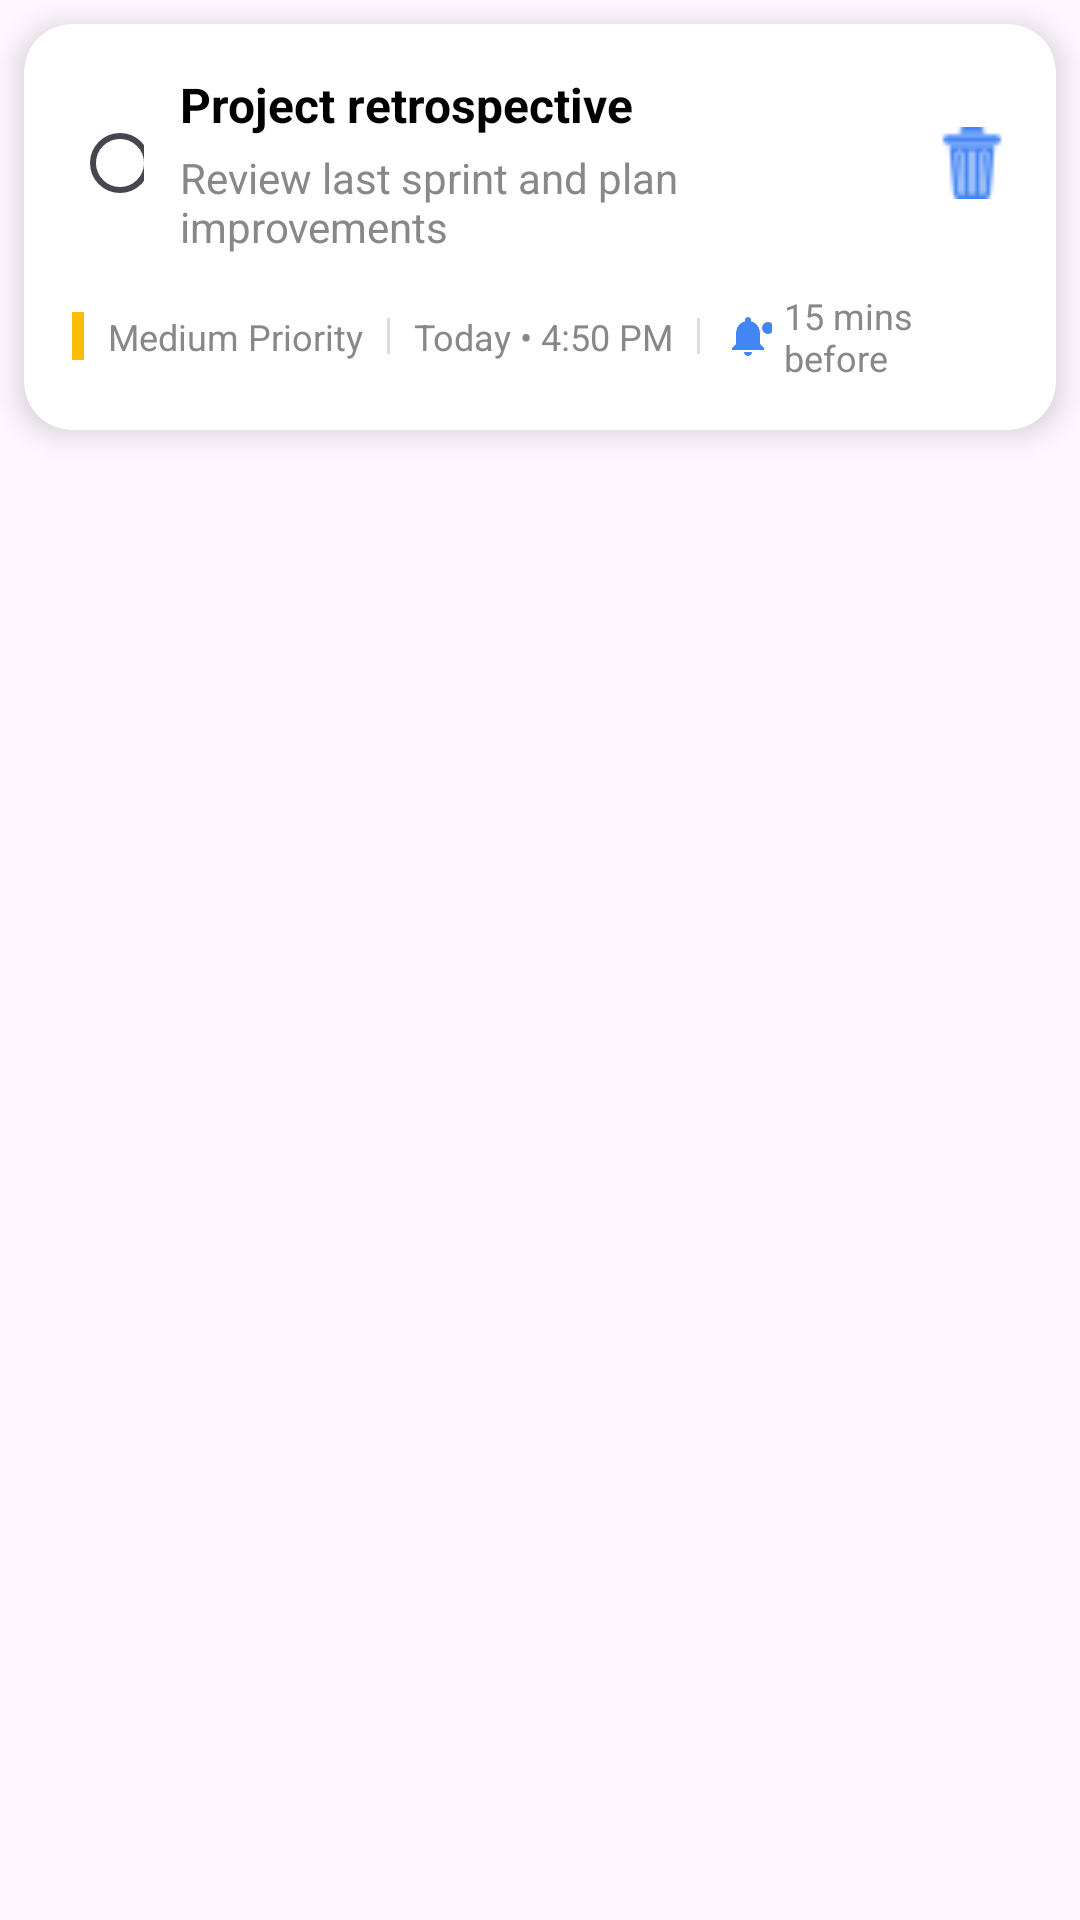

Named icons in this screenshot (1080px×1920px) and their bounding boxes, (x1, y1, x2, y2):
notification: (732, 317, 772, 356)
